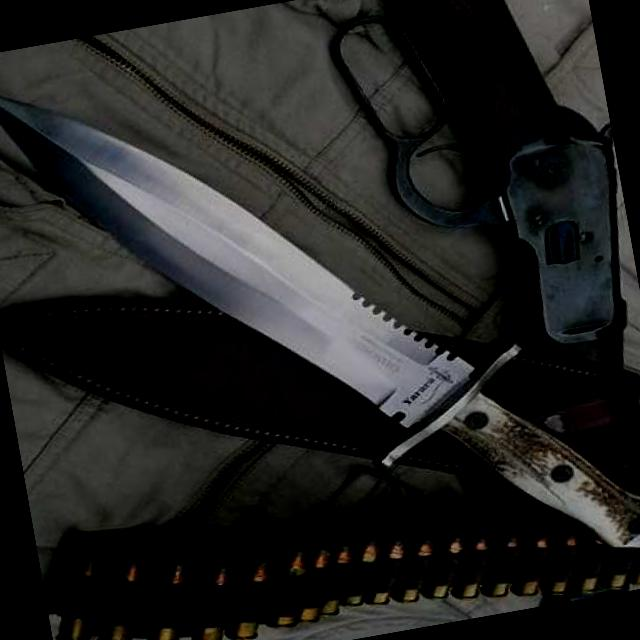knife: (0, 8, 484, 480)
